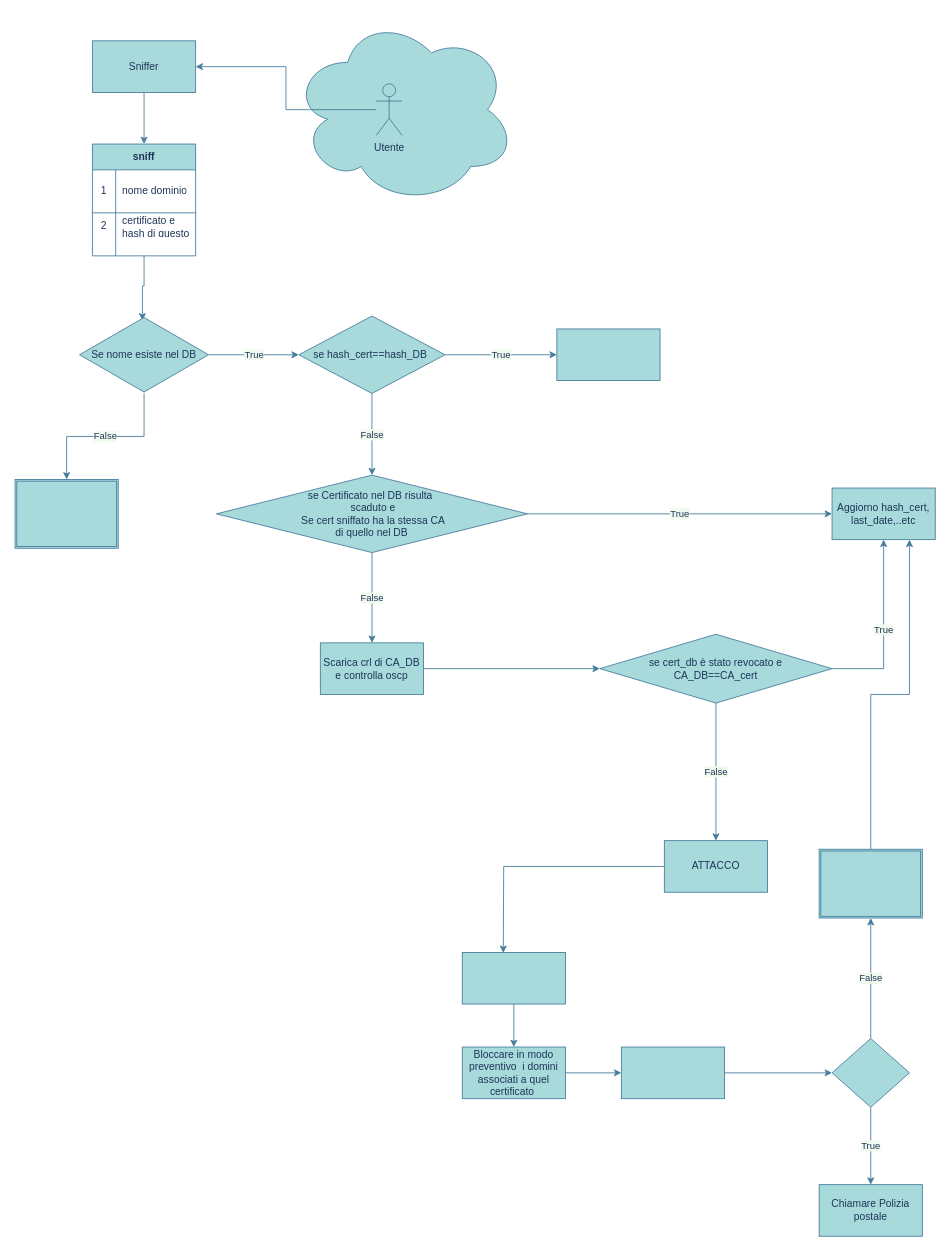
Some shapes in this 950 by 1251 pixel diagram are drawn without their labels. The shapes that lost their labels are listed below. From the top down, each one's centre as x and y in pixels, then its label:
[608,354]: aggiorno last_date ,la frequenza e frequenza relativa
[66,513]: Insert nome,hash cert nel DB, ...etc
[870,883]: Sblocco dei domini associati a quel certificato
[513,978]: Generare un Allert
[672,1072]: Controllo situazione da parte di un tecnico
[870,1072]: é ATTACCO
